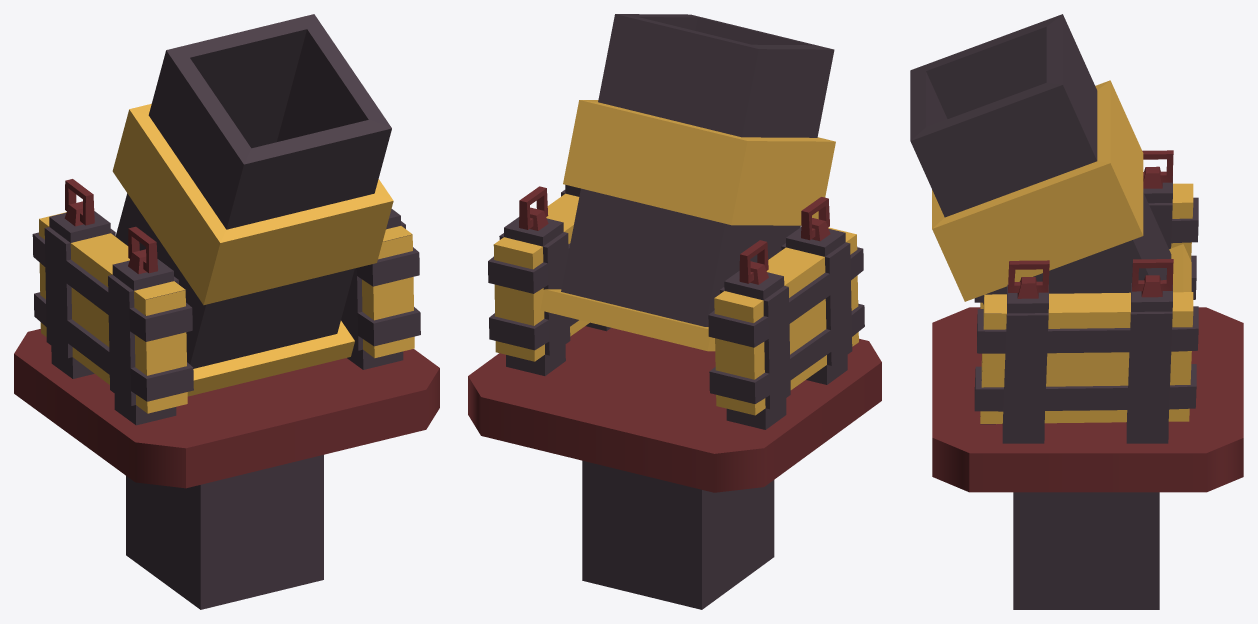
The model's file is mortar.fbx.
The picture shows the model from 3 angles, left to right: view 1: azimuth 30°, elevation 25°; view 2: azimuth 150°, elevation 25°; view 3: azimuth 270°, elevation 25°; orthographic projection. The views are drawn at different scales.
Visible parts, largest first — view 1: mortar; view 2: mortar; view 3: mortar.
Part boxes in pixels (x1,y1,x2,y2): mortar: (14, 14, 439, 609); mortar: (468, 14, 881, 609); mortar: (910, 14, 1243, 609).
Size of the model in its own units: 212 by 362 by 205.
